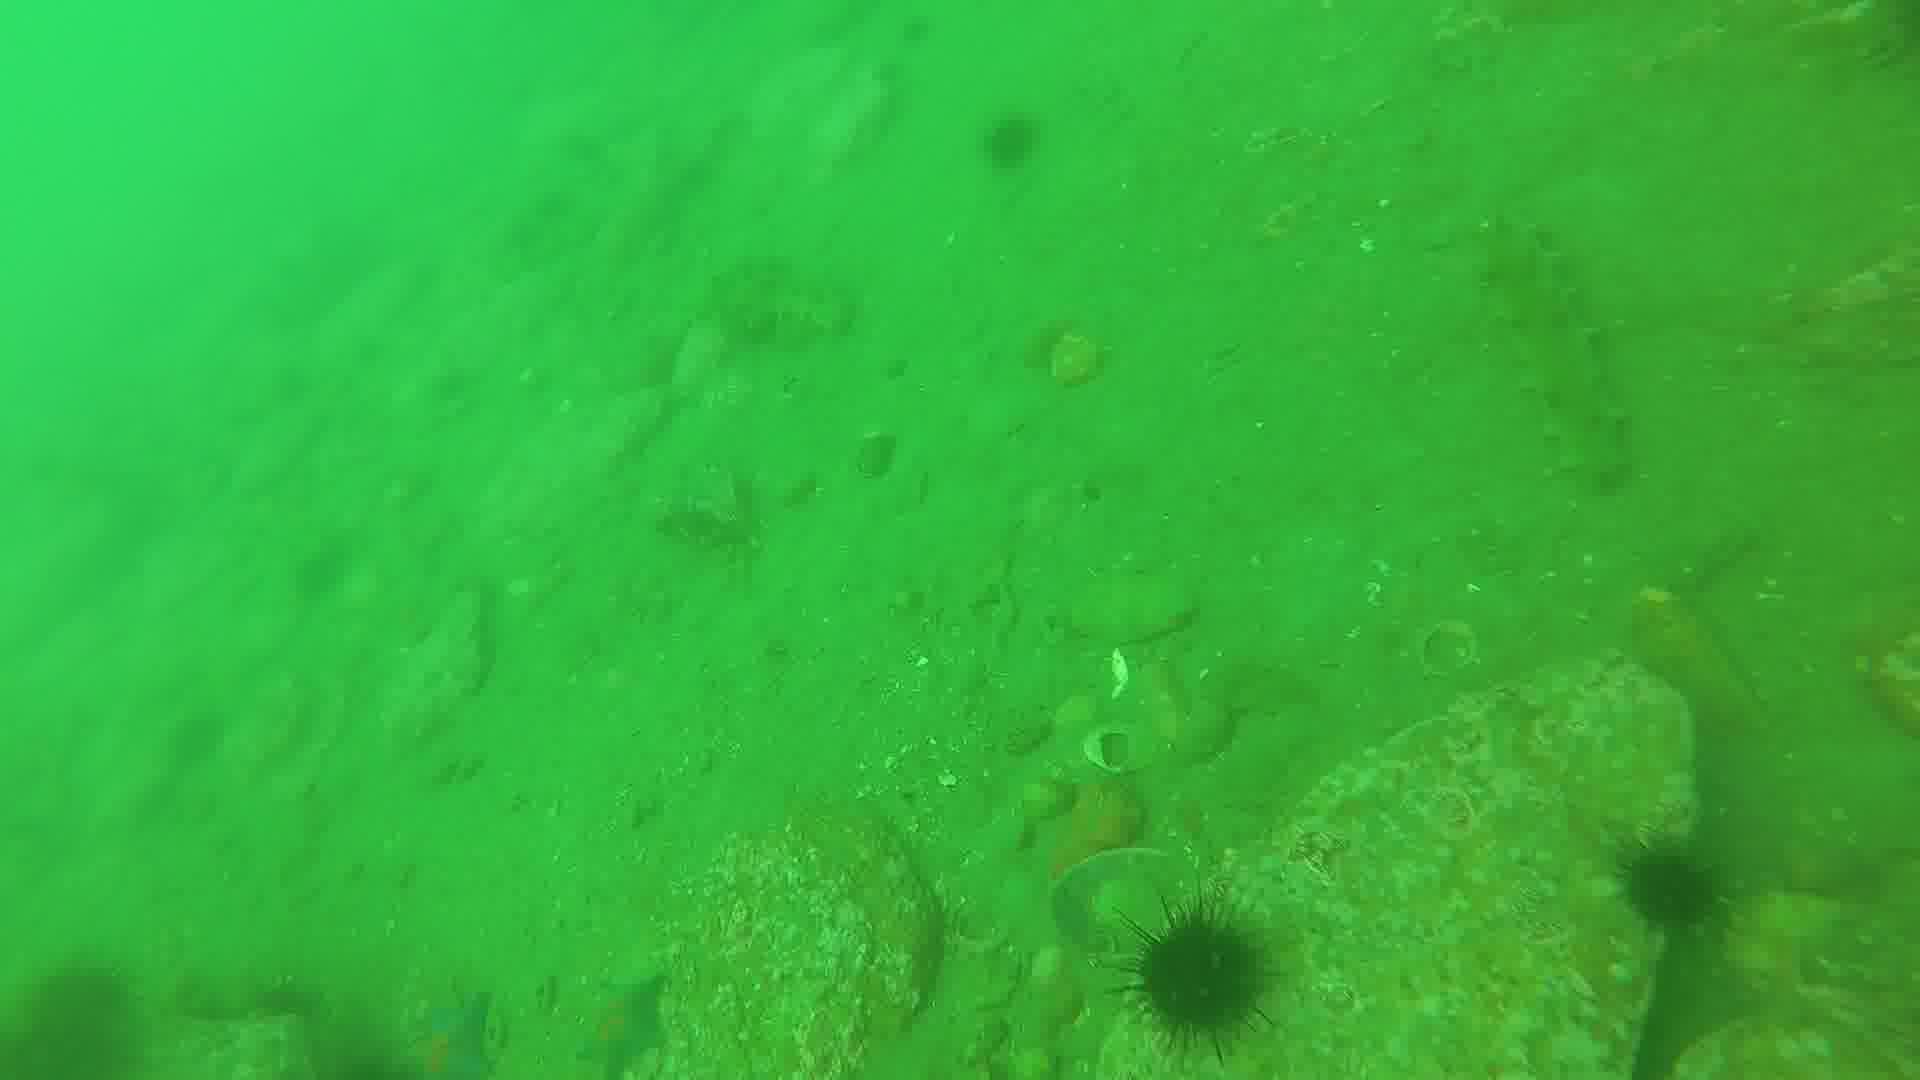echinus: (1118, 891, 1269, 1055), (1, 989, 129, 1080), (1625, 840, 1734, 942), (980, 107, 1048, 173)
holothurian: (1447, 208, 1630, 485), (700, 258, 866, 339)
starfish: (568, 984, 665, 1080), (411, 994, 498, 1080)
